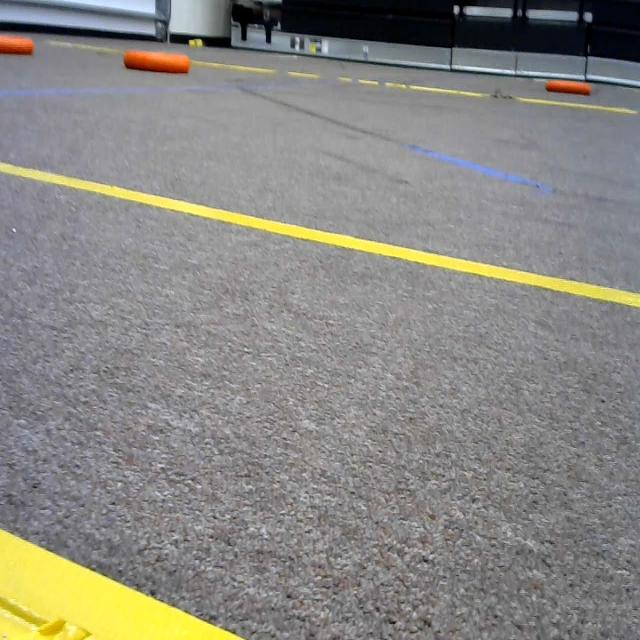note: (119, 42, 194, 79), (542, 73, 604, 105), (0, 30, 42, 60)
